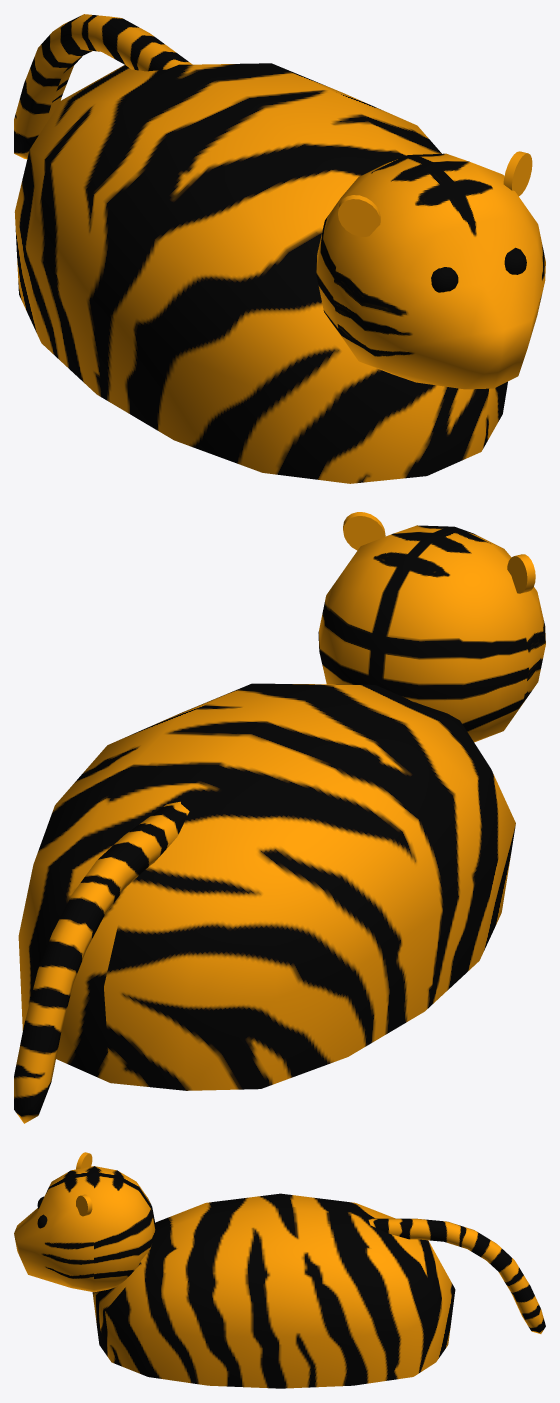
File: tiger_prt.fbx
The picture shows the model from 3 angles, top to bottom: view 1: azimuth 30°, elevation 25°; view 2: azimuth 150°, elevation 25°; view 3: azimuth 270°, elevation 25°; orthographic projection. The views are drawn at different scales.
Parts seen in each view (by area): view 1: pCube1, pCube2, pCube3, pCylinder2, pCylinder1, pCube5; view 2: pCube1, pCube2, pCube3, pCylinder1, pCylinder2; view 3: pCube1, pCube2, pCube3, pCylinder1.
Boxes of the visible parts, left/top/right/bottom form: pCube1: left=14, top=63, right=507, bottom=483; pCube2: left=316, top=153, right=545, bottom=389; pCube3: left=14, top=14, right=192, bottom=159; pCylinder2: left=338, top=195, right=380, bottom=236; pCylinder1: left=503, top=151, right=532, bottom=196; pCube5: left=431, top=267, right=458, bottom=292; pCube1: left=18, top=683, right=515, bottom=1090; pCube2: left=318, top=525, right=545, bottom=742; pCube3: left=14, top=801, right=189, bottom=1123; pCylinder1: left=343, top=512, right=385, bottom=550; pCylinder2: left=507, top=554, right=535, bottom=593; pCube1: left=92, top=1193, right=455, bottom=1388; pCube2: left=14, top=1166, right=156, bottom=1292; pCube3: left=368, top=1218, right=545, bottom=1333; pCylinder1: left=76, top=1194, right=92, bottom=1216.
Bounding box in the file's own units: 1.46 × 1.24 × 3.47.
